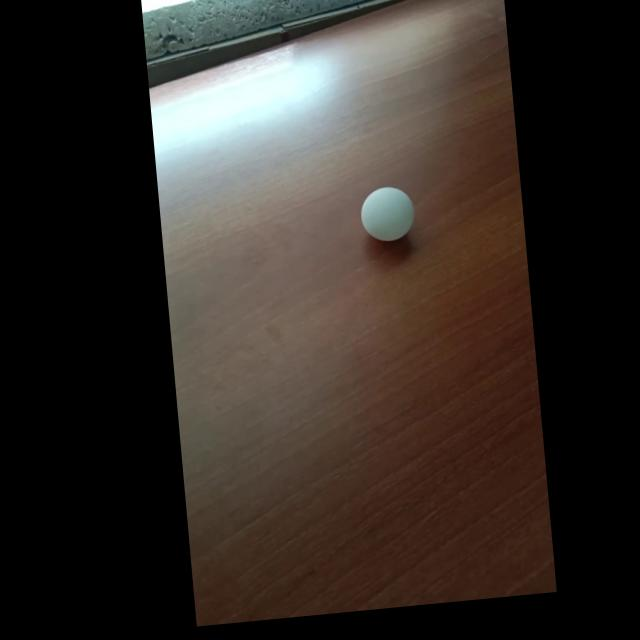white ball: (358, 183, 417, 244)
